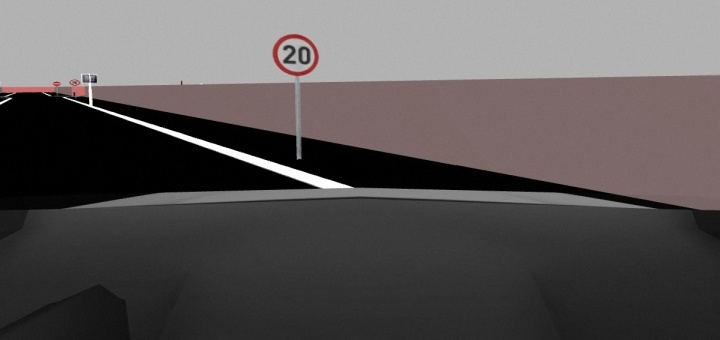hiz_20: (270, 34, 327, 78)
